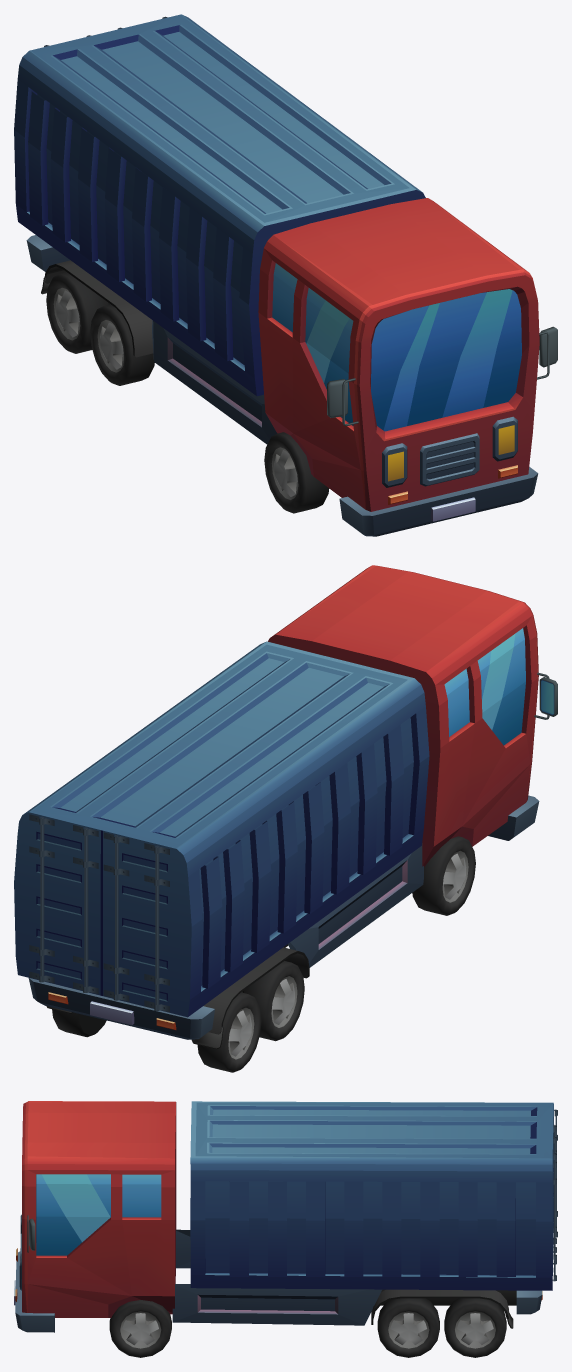
Rendered from Truck_New_Red_1.fbx.
3 views of the same model, one above another, from view 1: azimuth 30°, elevation 25°; view 2: azimuth 150°, elevation 25°; view 3: azimuth 270°, elevation 25° (orthographic). The views are drawn at different scales.
Visible parts, largest first — view 1: Body, tyreF_2, tyre_Back4_3, tyre_Back4_1; view 2: Body, tyreF_2, tyre_Back4_3, tyre_Back4_1, tyre_Back4_4; view 3: Body, tyre_Back4_2, tyre_Back4_4, tyreF_1.
Part boxes in pixels (x1,y1,x2,y2): Body: (14, 14, 557, 536); tyreF_2: (264, 432, 329, 513); tyre_Back4_3: (90, 304, 154, 385); tyre_Back4_1: (46, 272, 109, 353); Body: (14, 565, 557, 1049); tyreF_2: (412, 836, 475, 915); tyre_Back4_3: (242, 961, 304, 1041); tyre_Back4_1: (197, 992, 261, 1072); tyre_Back4_4: (52, 1009, 106, 1037); Body: (14, 1101, 557, 1332); tyre_Back4_2: (377, 1298, 439, 1357); tyre_Back4_4: (444, 1298, 506, 1357); tyreF_1: (109, 1300, 171, 1357).
Bounding box in the file's own units: 116 × 126 × 313.
